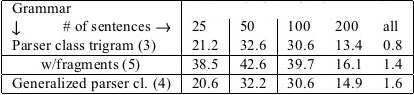column: (10, 1, 172, 95), (286, 1, 316, 95), (334, 1, 364, 95), (191, 1, 220, 95), (239, 1, 268, 95), (381, 1, 404, 95)
row: (1, 57, 414, 72), (1, 20, 413, 35), (1, 39, 414, 52), (1, 2, 414, 14), (1, 77, 414, 89)
